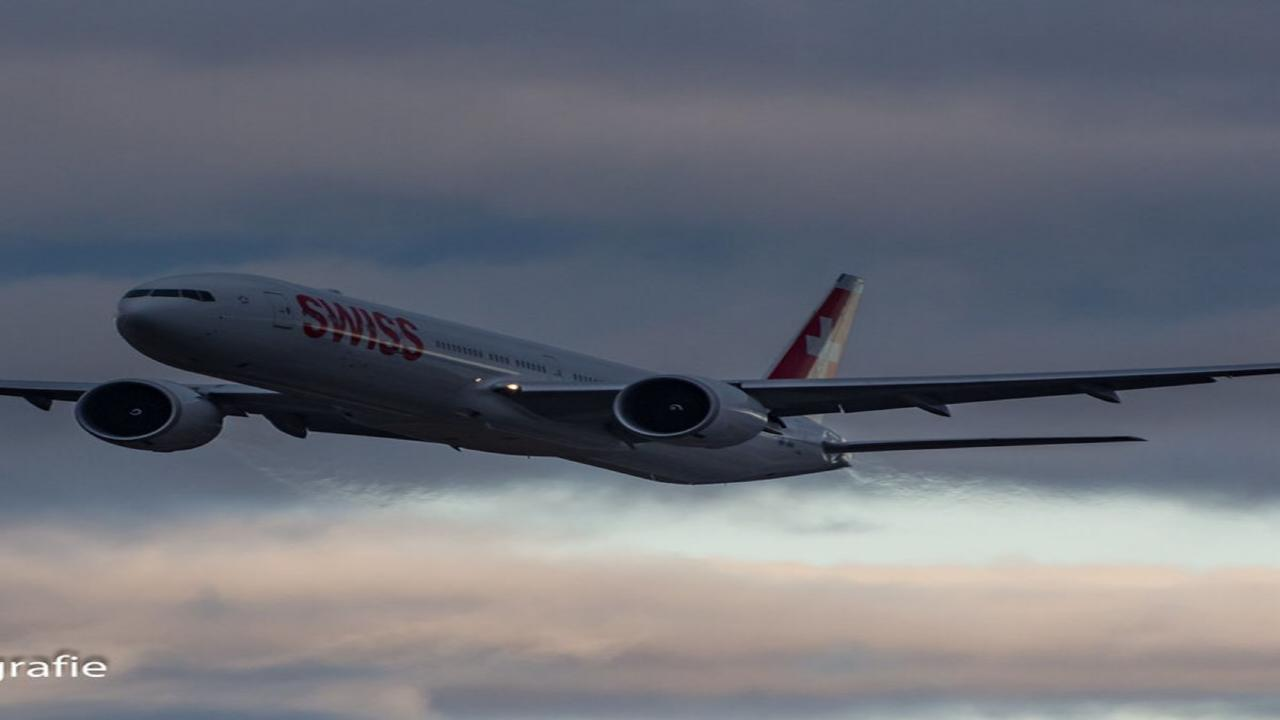Airplane: (0, 251, 1280, 494)
